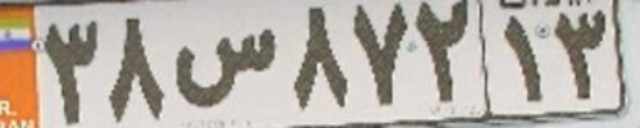1: (498, 14, 542, 102)
2: (416, 0, 468, 102)
3: (44, 17, 98, 123), (552, 7, 609, 99)
7: (353, 2, 406, 106)
8: (107, 18, 168, 120), (294, 6, 349, 107)
sin: (177, 27, 277, 107)
